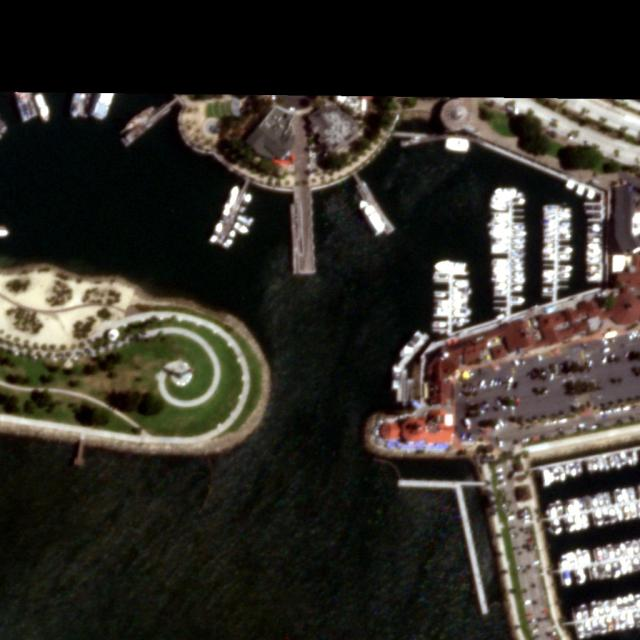personal ships: (491, 190, 527, 315), (544, 488, 639, 531), (564, 537, 639, 585), (542, 209, 575, 304), (207, 189, 257, 249), (429, 259, 470, 328), (575, 595, 639, 638), (352, 200, 388, 238), (34, 95, 47, 127)
